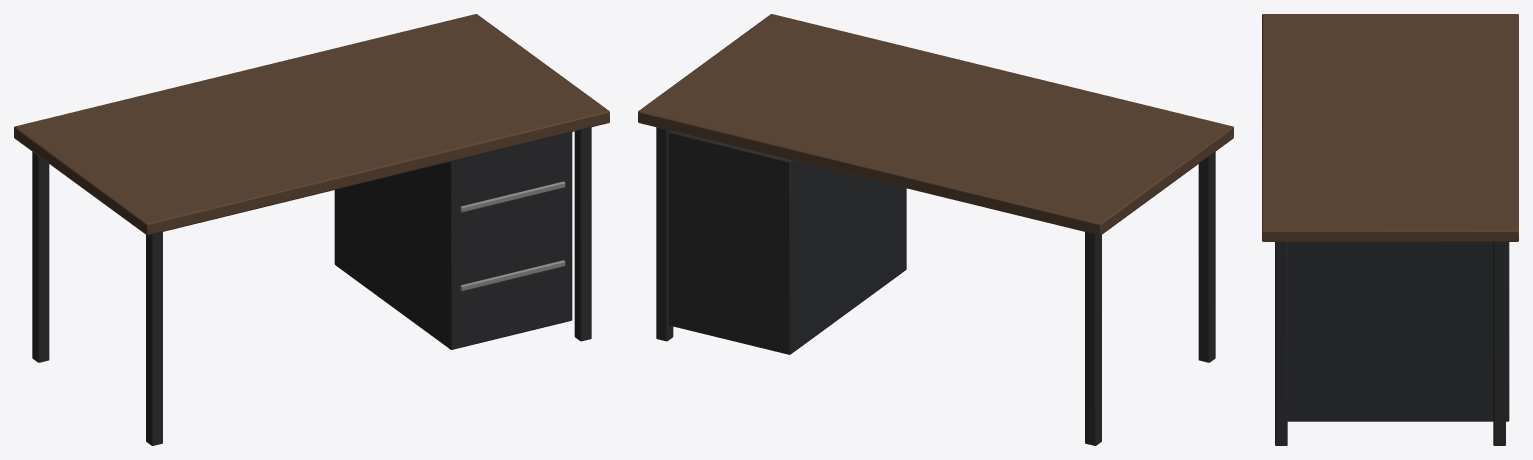
The model's file is SM_F_Desk.fbx.
3 views of the same model, side by side, from view 1: azimuth 30°, elevation 25°; view 2: azimuth 150°, elevation 25°; view 3: azimuth 270°, elevation 25° (orthographic). The views are drawn at different scales.
Visible parts, largest first — view 1: SM_F_Desk__Body; view 2: SM_F_Desk__Body; view 3: SM_F_Desk__Body.
Part boxes in pixels (x1,y1,x2,y2): SM_F_Desk__Body: [14, 14, 609, 445]; SM_F_Desk__Body: [638, 14, 1233, 445]; SM_F_Desk__Body: [1262, 14, 1518, 445].
Bounding box in the file's own units: 1.6 × 0.76 × 0.8.
